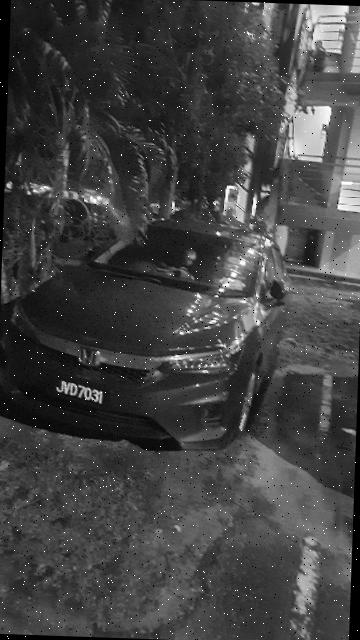License_Plate: (45, 373, 116, 410)
car: (1, 209, 294, 455)
